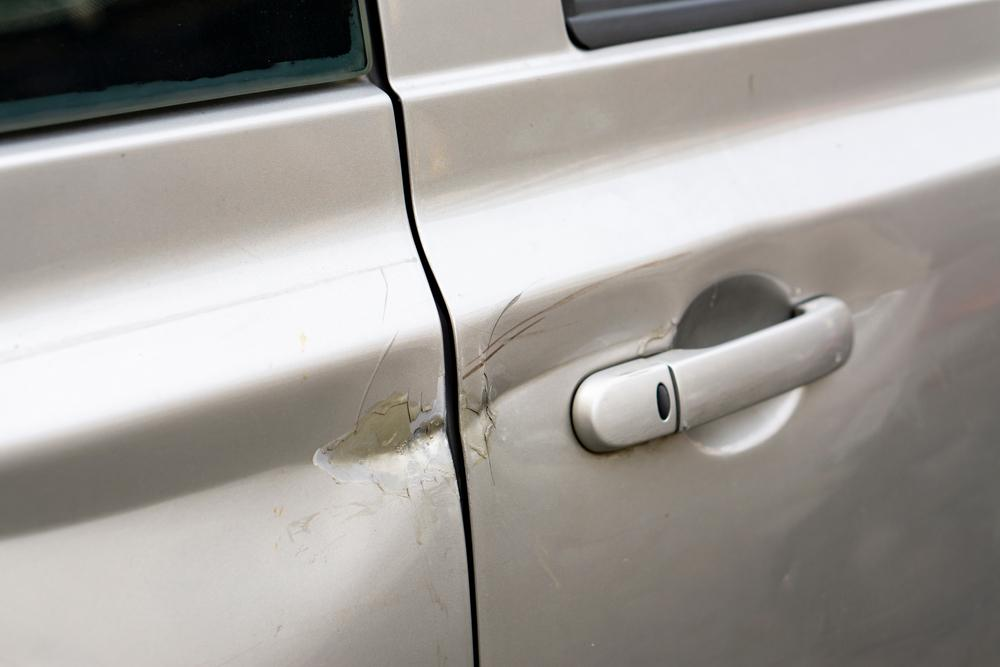dent: (205, 338, 454, 632), (485, 281, 678, 519), (792, 217, 939, 358)
